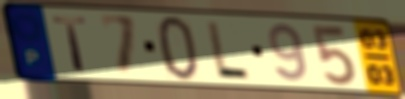0: (155, 14, 201, 83)
5: (309, 22, 360, 88)
7: (96, 13, 140, 79)
9: (265, 21, 310, 85)
L: (204, 19, 253, 82)
T: (50, 14, 91, 73)
